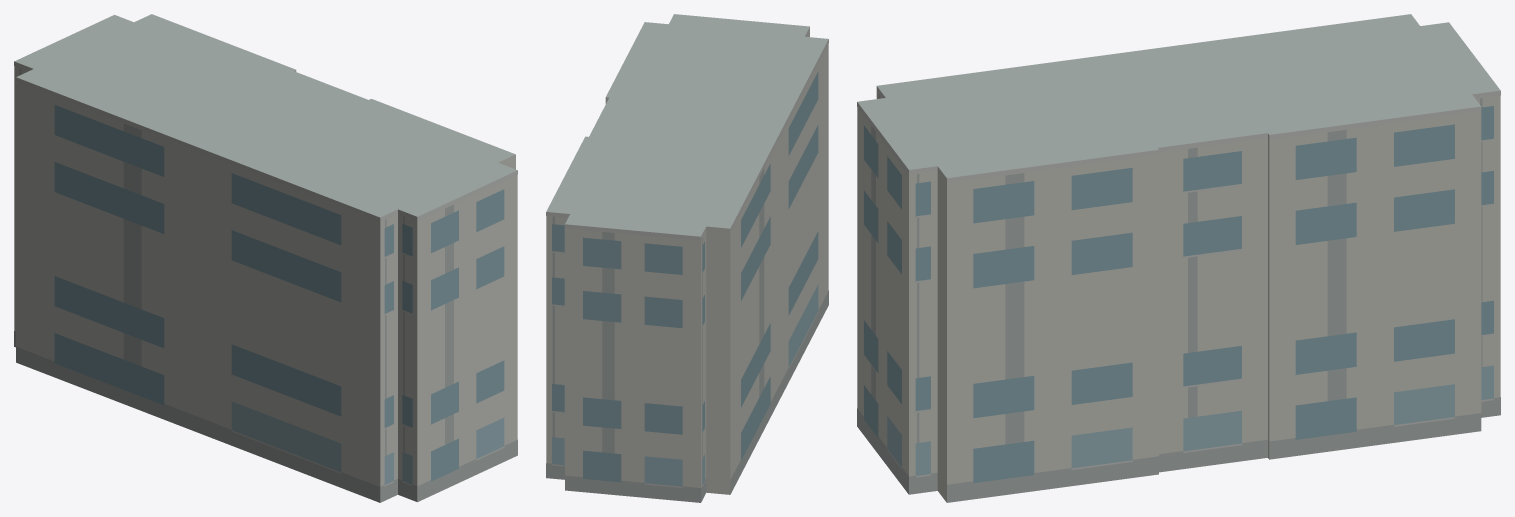
Rendered from survey-upis-32788633.glb.
3 views of the same model, side by side, from view 1: azimuth 30°, elevation 25°; view 2: azimuth 150°, elevation 25°; view 3: azimuth 270°, elevation 25° (orthographic). The views are drawn at different scales.
Parts seen in each view (by area): view 1: survey-upis-32788633.tmp; view 2: survey-upis-32788633.tmp; view 3: survey-upis-32788633.tmp.
Boxes of the visible parts, <box> form: survey-upis-32788633.tmp: <box>14,14,517,502</box>; survey-upis-32788633.tmp: <box>546,14,828,502</box>; survey-upis-32788633.tmp: <box>857,14,1500,502</box>.
Size of the model in its own units: 16.83 by 15.5 by 27.86.
